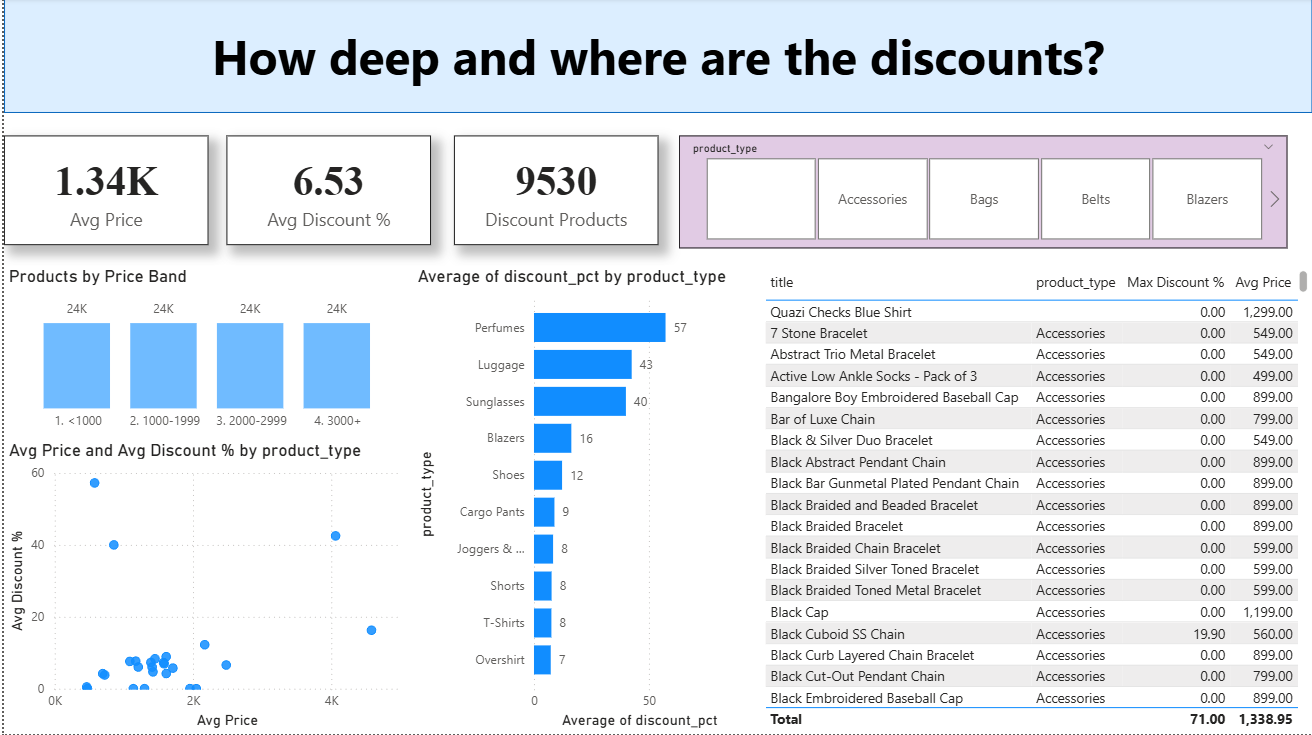

The page's visual inventory and layout, read from the dashboard file:
{"tool":"powerbi","page":{"name":"Pricing","canvas":[1280,720],"ordinal":1},"visuals":[{"type":"card","fields":{"Values":["mart dim_product.Avg Price"]},"box":[0,135,200,107.5],"z":0},{"type":"card","fields":{"Values":["mart dim_product.Avg Discount %"]},"box":[217.5,135,200,107.5],"z":1000},{"type":"card","fields":{"Values":["mart dim_product.Discount Products"]},"box":[440,135,200,107.5],"z":2000},{"type":"clusteredColumnChart","fields":{"Category":["mart fact_variant_snapshot.Price Band"],"Y":["mart dim_product.Products"]},"box":[0,262,400,170],"z":3000},{"type":"clusteredBarChart","fields":{"Category":["mart dim_product.product_type"],"Y":["Avg(mart fact_variant_snapshot.discount_pct)"]},"box":[400,262,338,458],"z":4000},{"type":"scatterChart","fields":{"X":["mart dim_product.Avg Price"],"Y":["mart dim_product.Avg Discount %"],"Category":["mart dim_product.product_type"]},"box":[0,432,400,288],"z":5000},{"type":"tableEx","fields":{"Values":["mart dim_product.title","mart dim_product.product_type","mart dim_product.Max Discount %","mart dim_product.Avg Price"]},"box":[738,262,542,458],"z":6000},{"type":"slicer","fields":{"Values":["mart dim_product.product_type"]},"box":[660,135,595,110],"z":7000},{"type":"shape","box":[0,0,1280,112.5],"z":7001}]}

Visuals, with their boxes in screenshot pixels (x1, y1, x2, y2), scaled from the page's 1280x720 canvas onto the 1312x735 screenshot:
card - mart dim_product.Avg Price: l=0, t=138, r=205, b=248
card - mart dim_product.Avg Discount %: l=223, t=138, r=428, b=248
card - mart dim_product.Discount Products: l=451, t=138, r=656, b=248
clusteredColumnChart - mart fact_variant_snapshot.Price Band x mart dim_product.Products: l=0, t=267, r=410, b=441
clusteredBarChart - mart dim_product.product_type x Avg(mart fact_variant_snapshot.discount_pct): l=410, t=267, r=756, b=734
scatterChart - mart dim_product.Avg Price x mart dim_product.Avg Discount %: l=0, t=441, r=410, b=734
tableEx - mart dim_product.title x mart dim_product.product_type: l=756, t=267, r=1311, b=734
slicer - mart dim_product.product_type: l=676, t=138, r=1286, b=250
shape: l=0, t=0, r=1311, b=115
